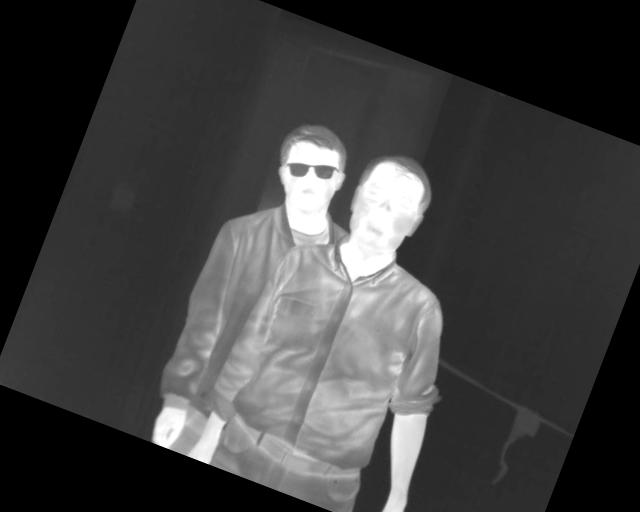face: (333, 141, 443, 267), (263, 114, 360, 222)
